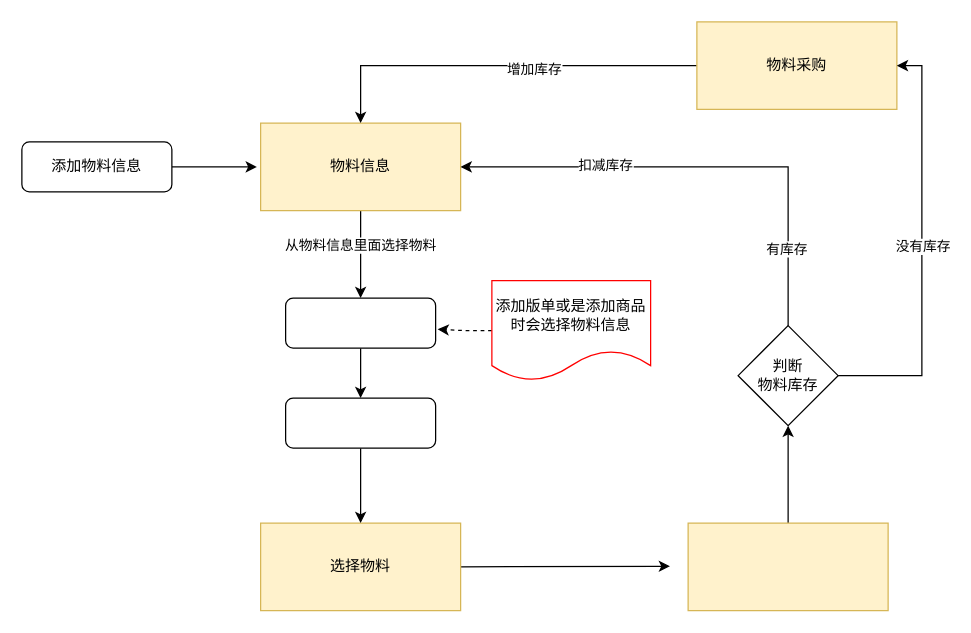
Some shapes in this 971 by 633 pixel diagram are drawn without their labels. Here are the shapes that lost their labels. From the top down, the centre of each, then its label:
point 360,322: 选择物料信息
point 360,422: 选择供应商信息
point 787,566: 生产用料
